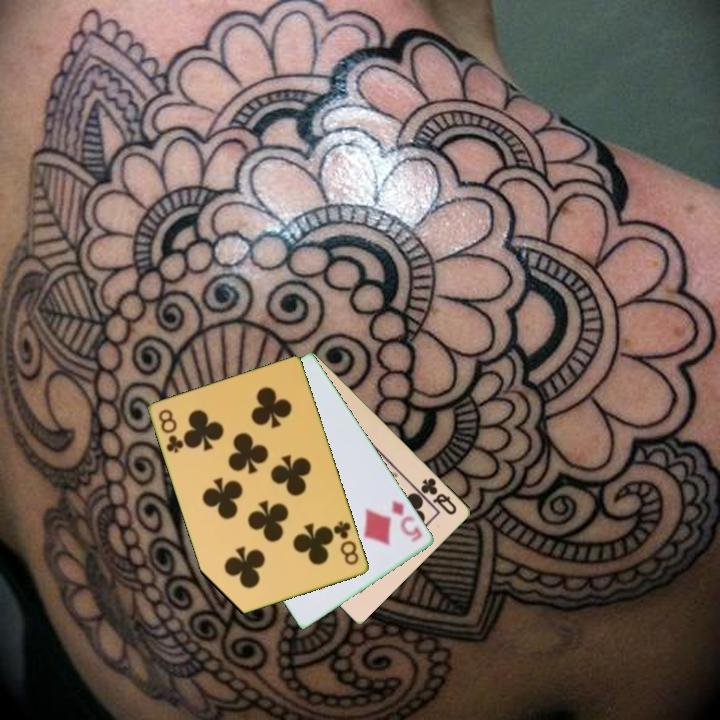5d: (388, 497, 425, 545)
8c: (330, 517, 362, 568), (155, 406, 187, 456)
Qc: (417, 474, 460, 518)
